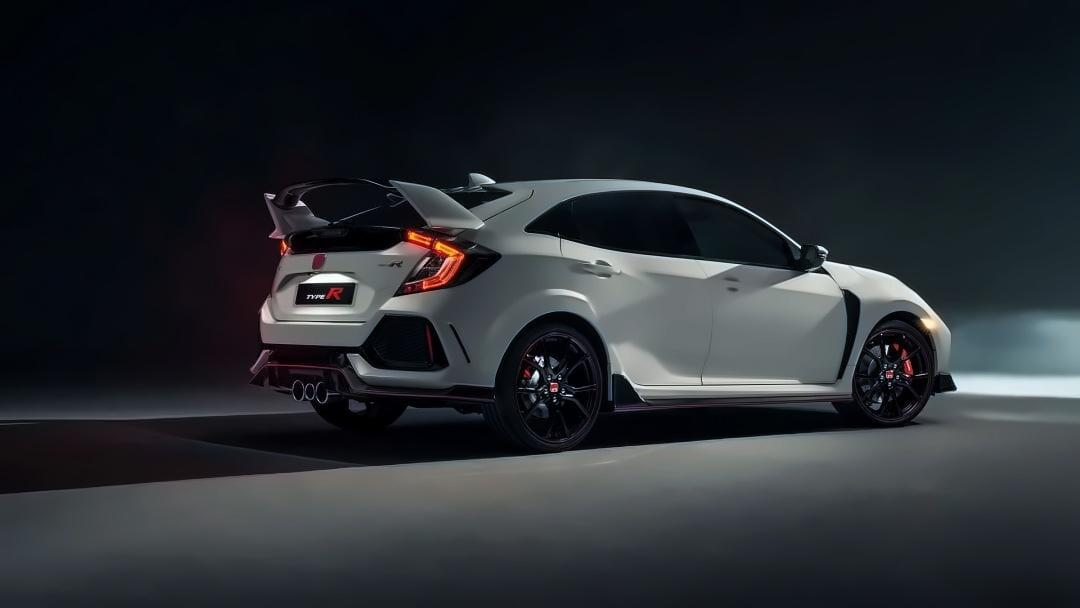Car boot: (253, 214, 478, 326)
Driver-s door - -F-R-: (668, 179, 846, 390)
Fender - -F-R-: (813, 255, 922, 401)
Fender - -R-R-: (456, 208, 590, 365)
Front bumper: (917, 320, 960, 399)
Passenger-s door - -R-R-: (558, 184, 720, 393)
Rear bumper: (235, 285, 511, 410)
Rear light - -R-: (392, 227, 503, 300)
Side bumper - -R-: (596, 365, 860, 416)
Side mirror - -R-: (801, 241, 829, 274)
